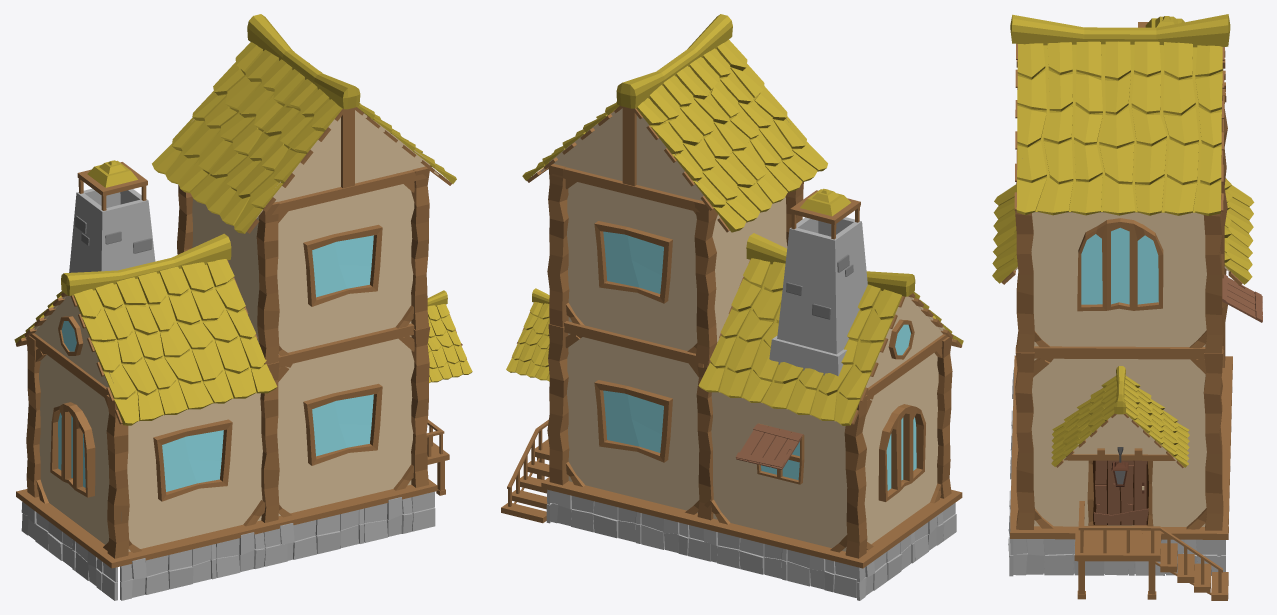
File: casaAmarilla.fbx
3 views of the same model, side by side, from view 1: azimuth 30°, elevation 25°; view 2: azimuth 150°, elevation 25°; view 3: azimuth 270°, elevation 25° (orthographic). The views are drawn at different scales.
Visible parts, largest first — view 1: Plane.123, Plane.120, Plane.115, Plane.117, Plane.106, Cube.718, Plane.107, Plane.111, Plane.112, Plane.125, Cube.395, Plane.119 (+27 smaller); view 2: Plane.120, Plane.123, Plane.114, Plane.104, Plane.116, Cube.718, Plane.107, Plane.122, Plane.109, Plane.110, Cube.394, Plane.119 (+26 smaller); view 3: Plane.120, Plane.085, Plane.118, Cube.529, Plane.099, Cube.440, Plane.108, Plane.123, Cube.439, Cube.438, Cube.399, Cube.340 (+16 smaller).
Part boxes in pixels (x1,y1,x2,y2): Plane.123: (14,259,277,425); Plane.120: (152,42,456,233); Plane.115: (277,335,414,515); Plane.117: (277,184,414,354); Plane.106: (127,393,262,551); Cube.718: (69,160,155,272); Plane.107: (39,355,121,544); Plane.111: (120,528,287,600); Plane.112: (280,491,435,560); Plane.125: (273,110,430,202); Cube.395: (122,484,423,564); Plane.119: (192,198,259,342); Plane.120: (522,39,827,232); Plane.123: (698,258,963,425); Plane.114: (567,333,699,513); Plane.104: (711,392,847,551); Plane.116: (567,182,697,350); Cube.718: (769,188,867,376); Plane.107: (862,353,938,544); Plane.122: (549,108,703,200); Plane.109: (547,490,710,561); Plane.110: (703,528,856,597); Cube.394: (555,481,852,564); Plane.119: (712,196,787,343); Plane.120: (1016,41,1223,215); Plane.085: (1031,358,1206,526); Plane.118: (1031,212,1206,346); Cube.529: (1074,501,1228,600); Plane.099: (1051,376,1189,467); Cube.440: (1010,14,1230,47); Plane.108: (1013,539,1225,575); Plane.123: (992,178,1254,284); Cube.439: (1081,227,1158,304); Cube.438: (1077,218,1163,311); Cube.399: (1203,346,1223,530); Cube.340: (1015,345,1034,529).
Bounding box in the file's own units: 4375 × 4870 × 2316.
